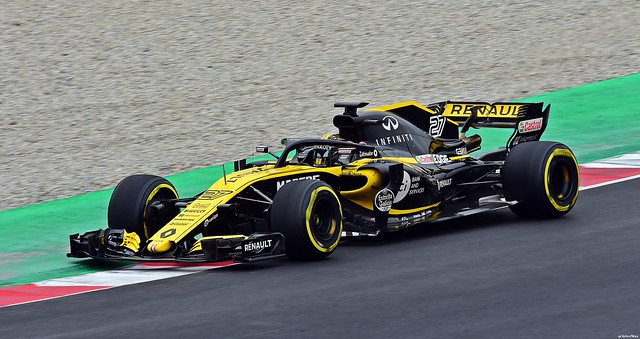F1 Car: (66, 94, 588, 269)
